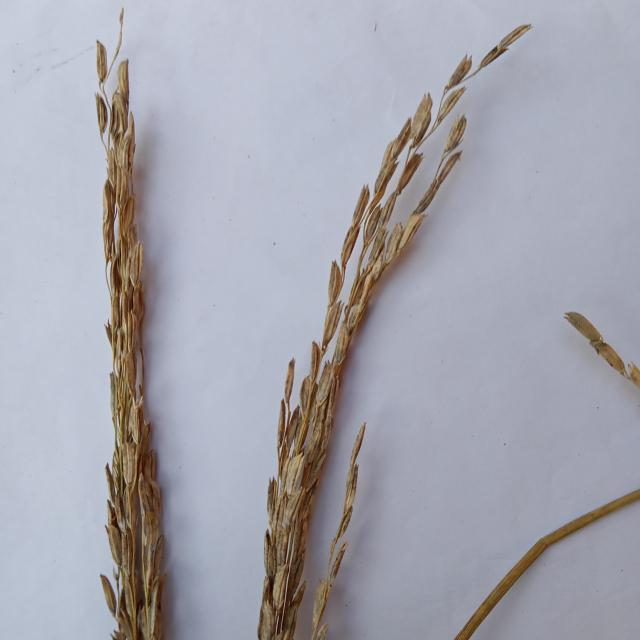Neck_Blast: (259, 213, 413, 639), (95, 68, 162, 635)
